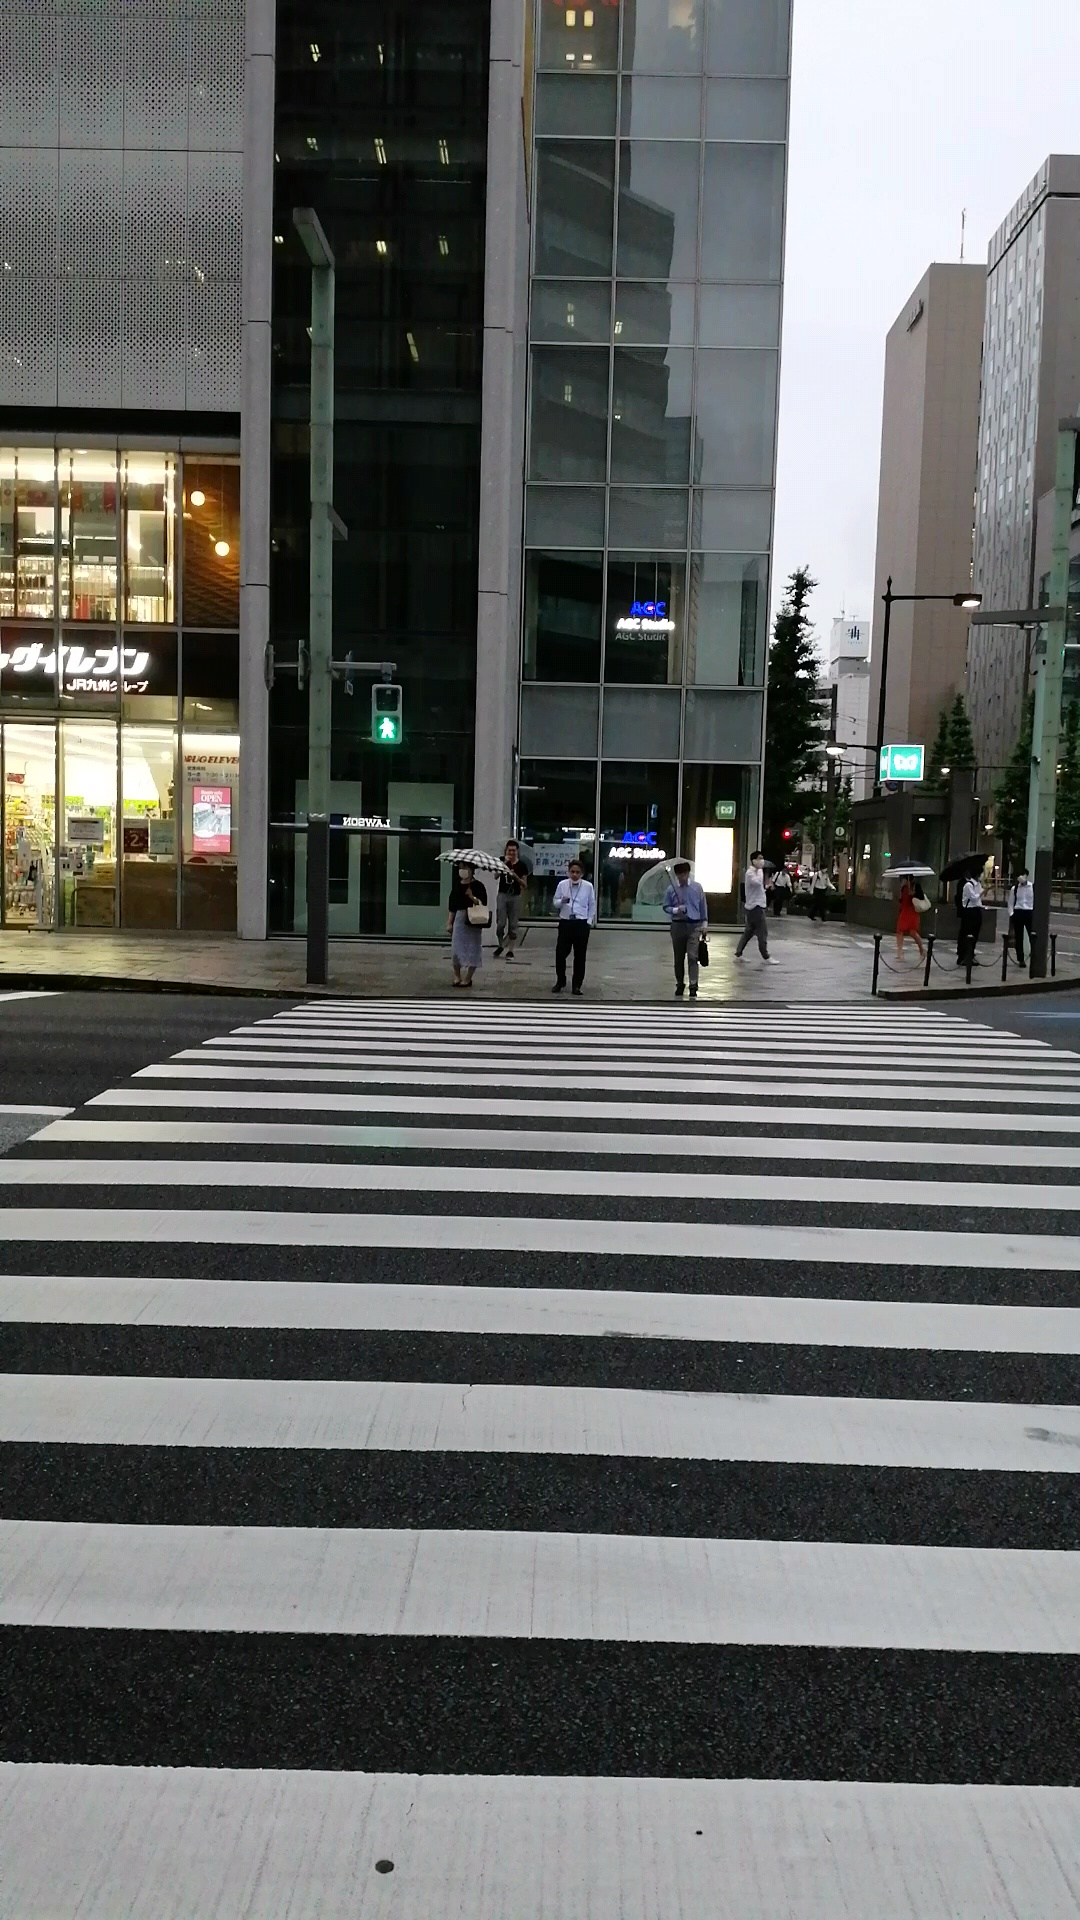green: (368, 679, 402, 745)
